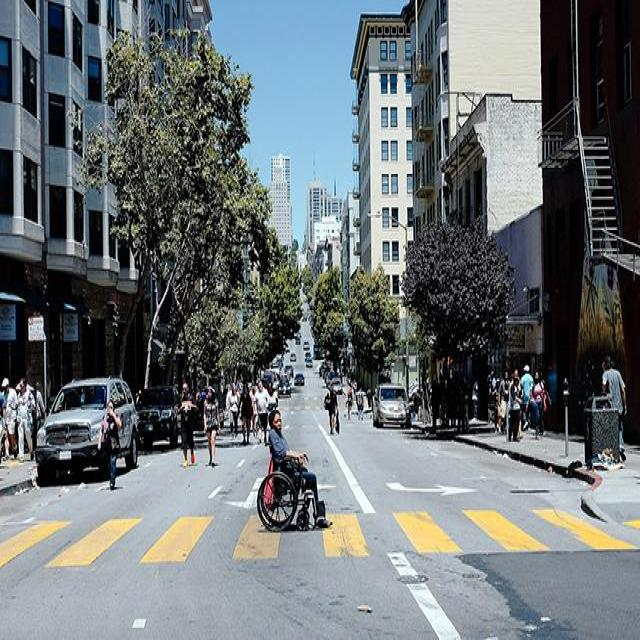wheelchairs: (255, 452, 334, 536)
